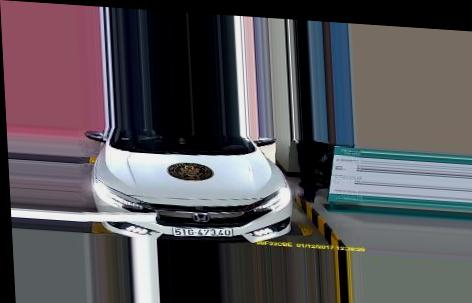License_Plate: (170, 225, 233, 241)
